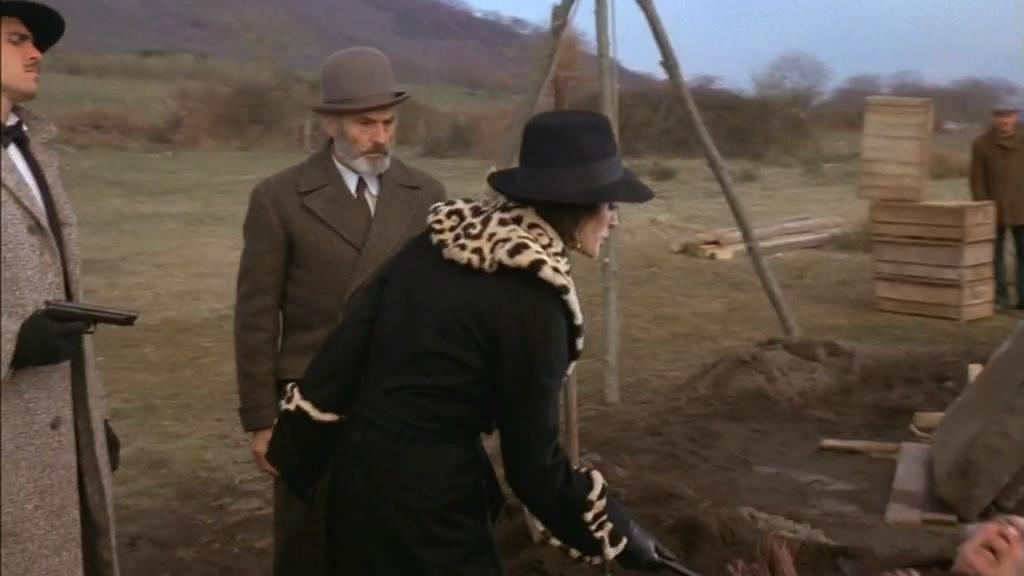gun: (32, 290, 141, 371)
